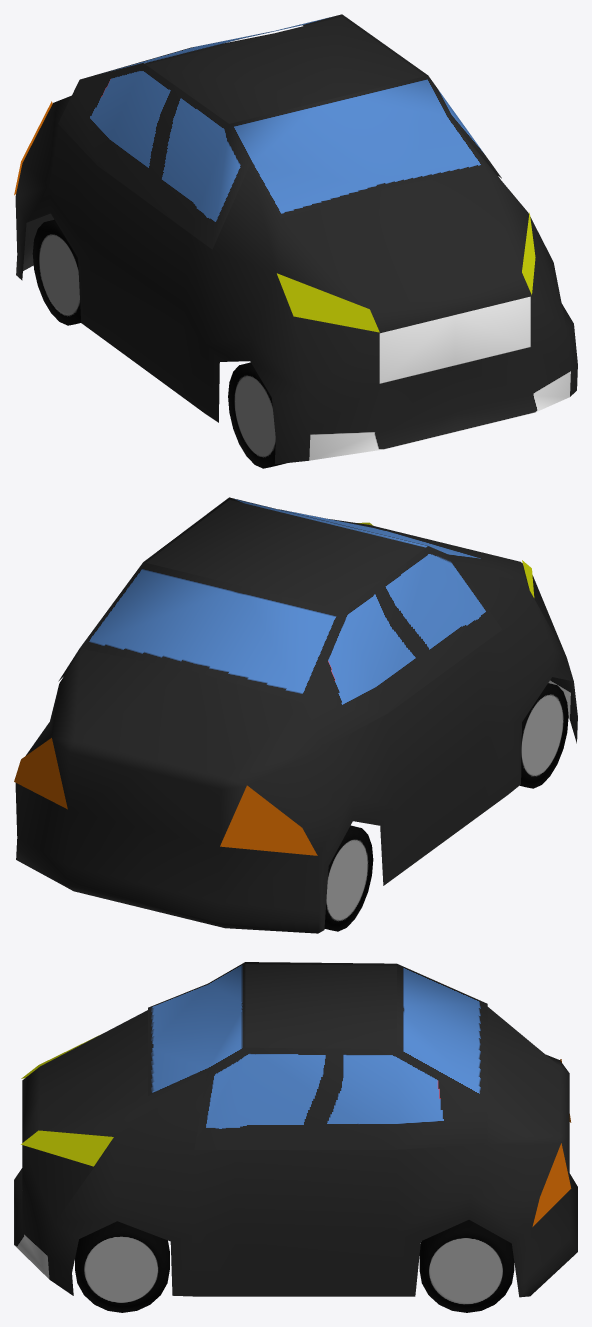
Rendered from car.fbx.
3 views of the same model, one above another, from view 1: azimuth 30°, elevation 25°; view 2: azimuth 150°, elevation 25°; view 3: azimuth 270°, elevation 25° (orthographic). The views are drawn at different scales.
Visible parts, largest first — view 1: polySurface5; view 2: polySurface5; view 3: polySurface5.
Part boxes in pixels (x1,y1,x2,y2): polySurface5: (14, 14, 577, 468); polySurface5: (14, 497, 577, 933); polySurface5: (14, 962, 577, 1312).
Size of the model in its own units: 140 by 123 by 255.
Materials: 1 (1 with a texture image).
